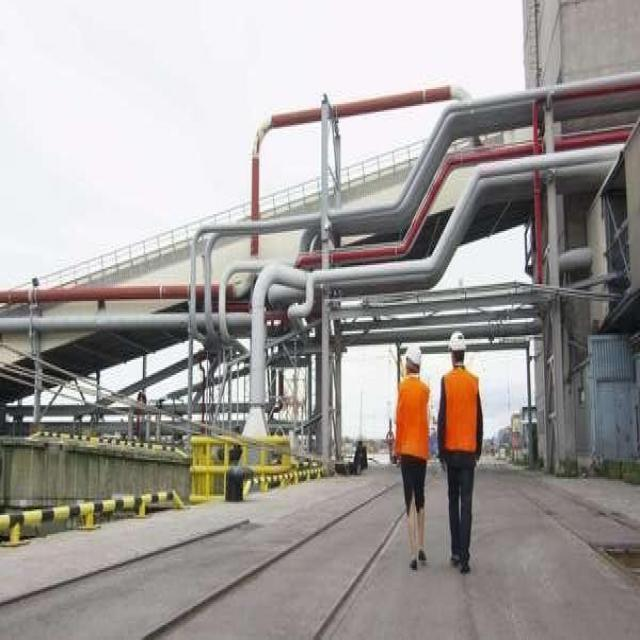helmet: (447, 330, 468, 353), (404, 344, 425, 366)
vest: (441, 364, 481, 456), (394, 372, 434, 463)
